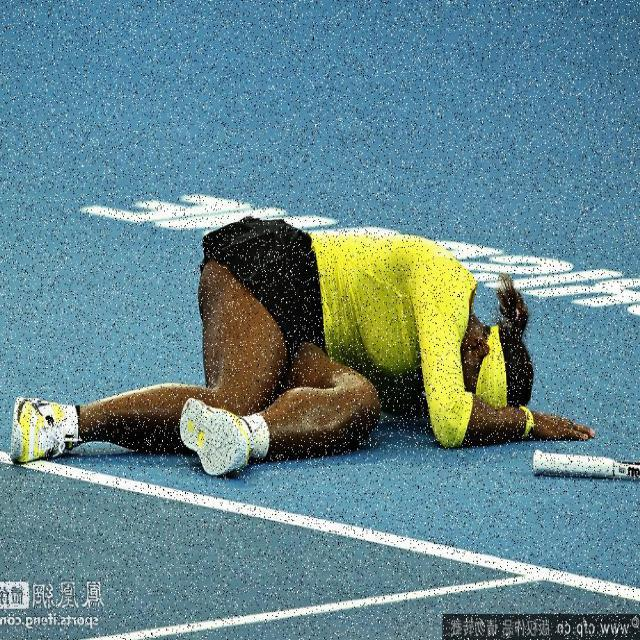fall: (26, 228, 566, 461)
